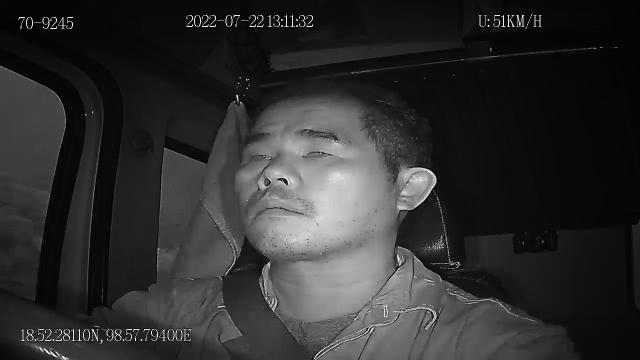SafeDriving: (294, 138, 344, 165), (240, 138, 276, 171)
Seatbelt: (221, 270, 315, 360)
